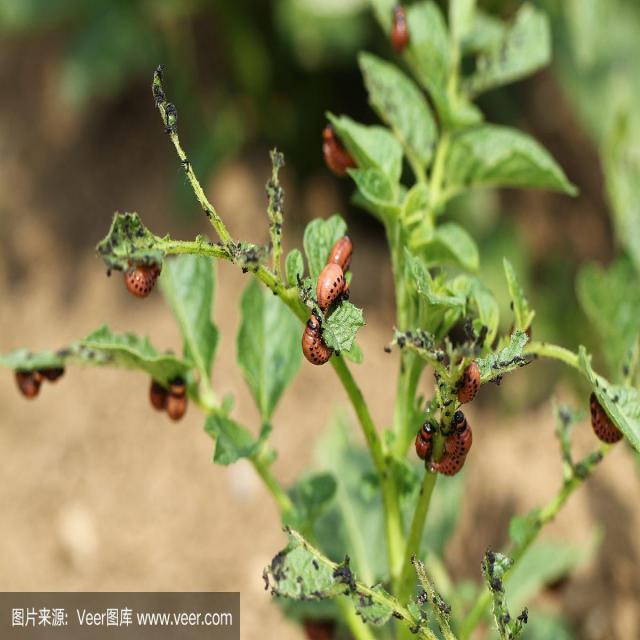ShuCaiHuaBanChong-Larva-: (578, 388, 630, 458), (292, 319, 338, 371), (121, 248, 158, 306), (318, 258, 344, 313), (445, 407, 476, 452), (413, 412, 438, 464), (455, 359, 478, 411)
